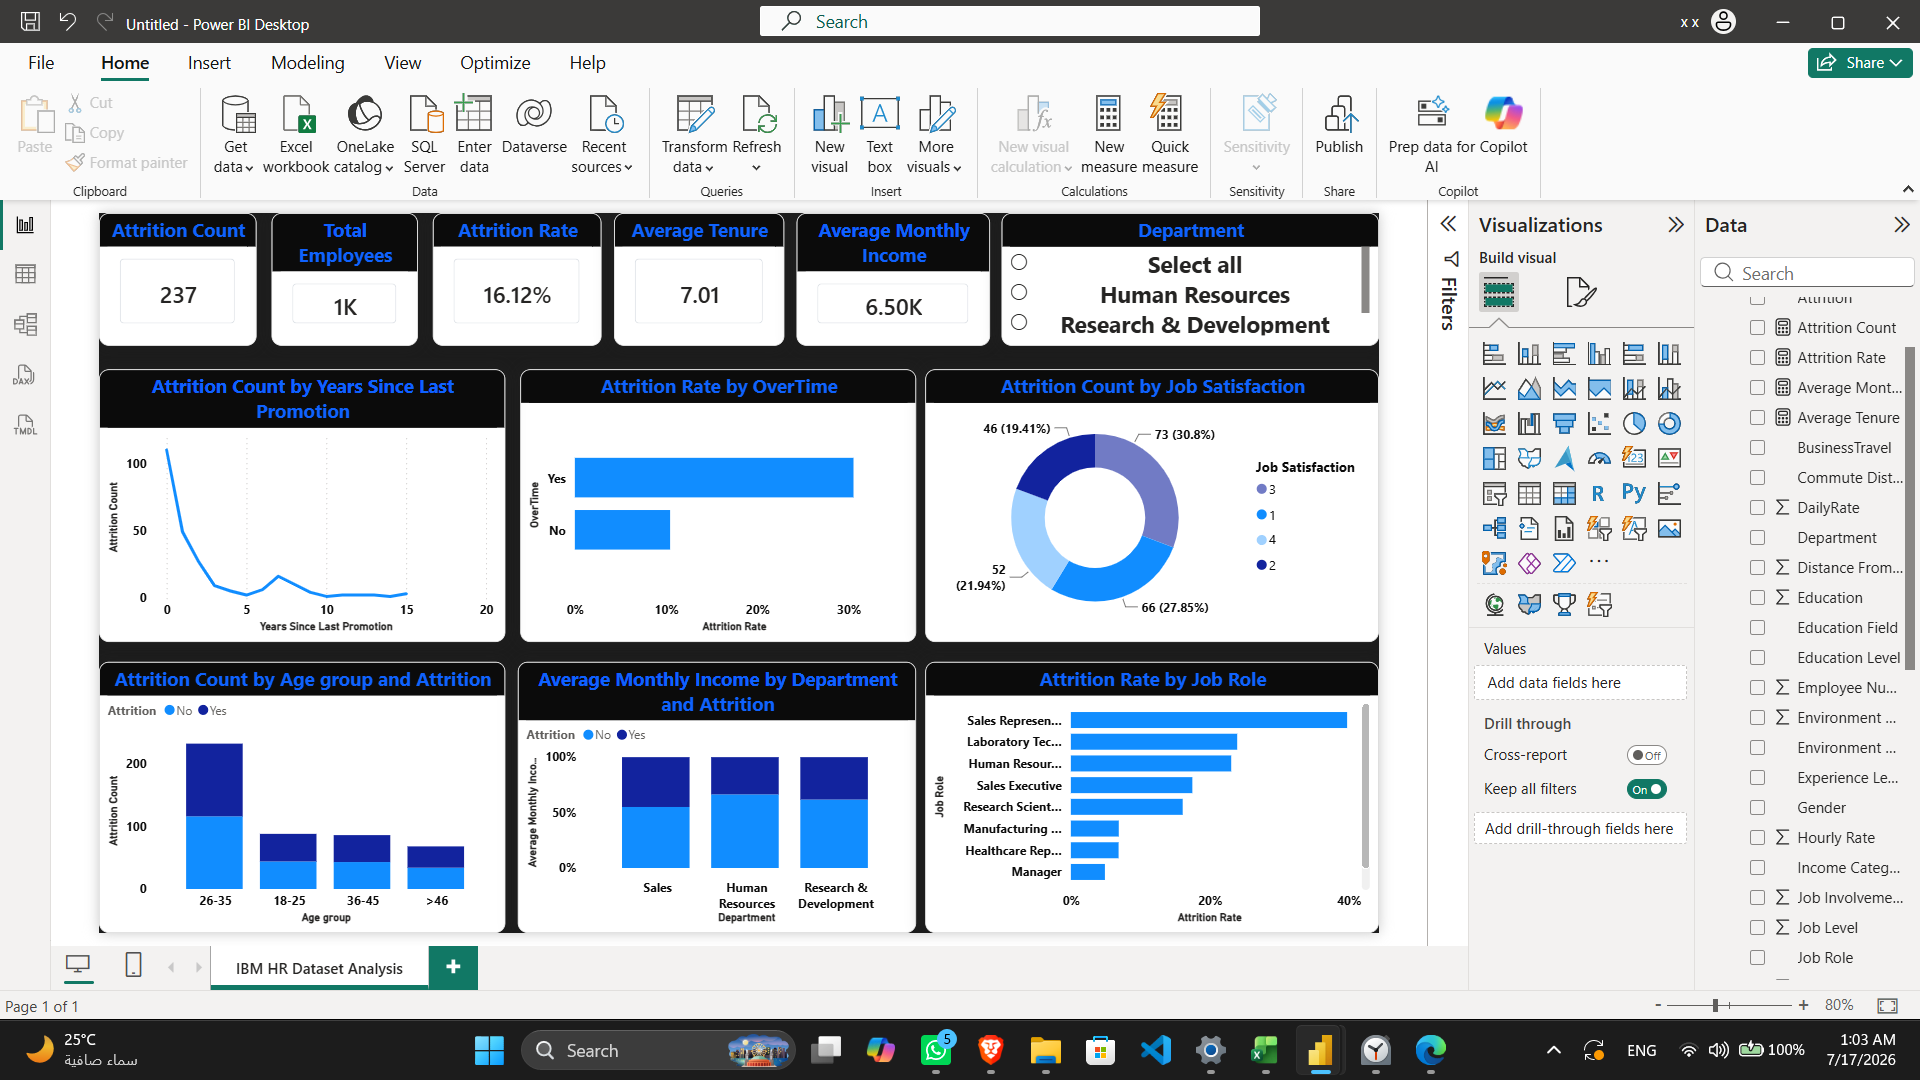

Layout of this report page (visuals, bound fields, positions):
{"tool":"powerbi","page":{"name":"IBM HR Dataset Analysis","canvas":[1280,720],"ordinal":0},"visuals":[{"type":"cardVisual","title":"Attrition Count","fields":{"Data":["HR_Data.Attrition Count"]},"box":[0,0,157.5,132.5],"z":0},{"type":"cardVisual","title":"Total Employees","fields":{"Data":["HR_Data.Total Employees"]},"box":[172.5,0,146.2,132.5],"z":1000},{"type":"cardVisual","title":"Attrition Rate","fields":{"Data":["HR_Data.Attrition Rate"]},"box":[333.8,0,168.8,132.5],"z":2000},{"type":"clusteredBarChart","fields":{"Category":["HR_Data.OverTime"],"Y":["HR_Data.Attrition Rate"]},"box":[421.2,156.2,396.2,272.5],"z":3000},{"type":"lineChart","fields":{"Category":["HR_Data.Years Since Last Promotion"],"Y":["HR_Data.Attrition Count"]},"box":[0,156.2,406.2,272.5],"z":4000},{"type":"columnChart","fields":{"Category":["HR_Data.Age group"],"Y":["HR_Data.Attrition Count"],"Series":["HR_Data.Attrition"]},"box":[0,448.8,406.2,271.2],"z":5000},{"type":"cardVisual","title":"Average Tenure","fields":{"Data":["HR_Data.Average Tenure"]},"box":[515,0,170,132.5],"z":6000},{"type":"cardVisual","title":"Average Monthly Income","fields":{"Data":["HR_Data.Average Monthly Income"]},"box":[697.5,0,193.8,132.5],"z":7000},{"type":"hundredPercentStackedColumnChart","fields":{"Category":["HR_Data.Department"],"Y":["HR_Data.Average Monthly Income"],"Series":["HR_Data.Attrition"]},"box":[418.8,448.8,398.8,271.2],"z":8000},{"type":"clusteredBarChart","fields":{"Category":["HR_Data.Job Role"],"Y":["HR_Data.Attrition Rate"]},"box":[826.2,448.8,453.8,271.2],"z":9000},{"type":"donutChart","fields":{"Category":["HR_Data.Job Satisfaction"],"Y":["HR_Data.Attrition Count"]},"box":[826.2,156.2,453.8,272.5],"z":10000},{"type":"listSlicer","fields":{"Values":["HR_Data.Department"]},"box":[902.5,0,377.5,132.5],"z":11000}]}

Visuals, with their boxes on the page's 1280x720 design canvas (x1, y1, x2, y2). These are canvas units, not pixel positions in the 1920x1080 screenshot, which may show the page scaled, cropped or inside an application window:
"Attrition Count" cardVisual: pyautogui.locateOnScreen(0, 0, 158, 132)
"Total Employees" cardVisual: pyautogui.locateOnScreen(172, 0, 319, 132)
"Attrition Rate" cardVisual: pyautogui.locateOnScreen(334, 0, 503, 132)
clusteredBarChart - HR_Data.OverTime x HR_Data.Attrition Rate: pyautogui.locateOnScreen(421, 156, 817, 429)
lineChart - HR_Data.Years Since Last Promotion x HR_Data.Attrition Count: pyautogui.locateOnScreen(0, 156, 406, 429)
columnChart - HR_Data.Age group x HR_Data.Attrition Count: pyautogui.locateOnScreen(0, 449, 406, 720)
"Average Tenure" cardVisual: pyautogui.locateOnScreen(515, 0, 685, 132)
"Average Monthly Income" cardVisual: pyautogui.locateOnScreen(698, 0, 891, 132)
hundredPercentStackedColumnChart - HR_Data.Department x HR_Data.Average Monthly Income: pyautogui.locateOnScreen(419, 449, 818, 720)
clusteredBarChart - HR_Data.Job Role x HR_Data.Attrition Rate: pyautogui.locateOnScreen(826, 449, 1280, 720)
donutChart - HR_Data.Job Satisfaction x HR_Data.Attrition Count: pyautogui.locateOnScreen(826, 156, 1280, 429)
listSlicer - HR_Data.Department: pyautogui.locateOnScreen(902, 0, 1280, 132)
